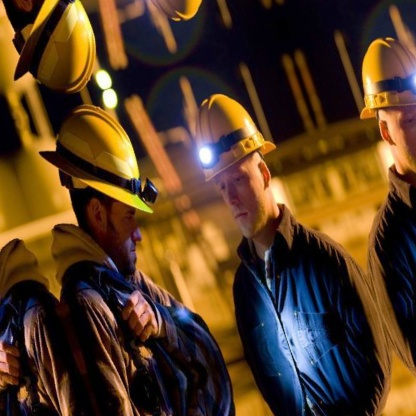yellow: (26, 87, 166, 243), (174, 78, 285, 191)
